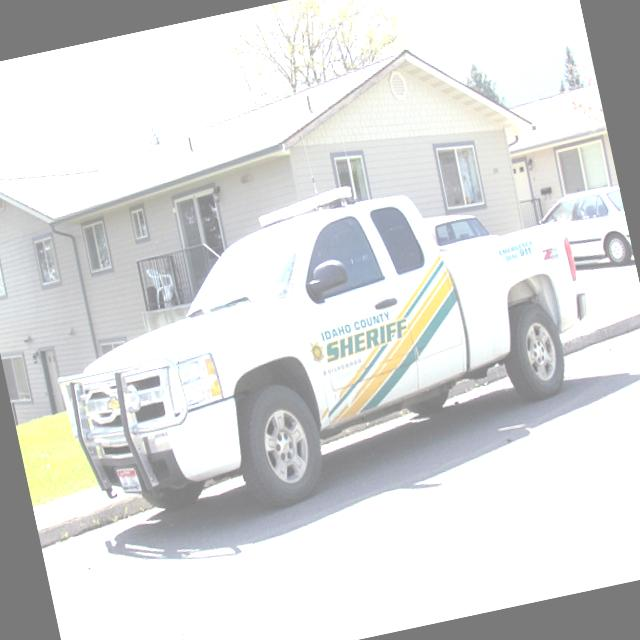Vehicle: (28, 138, 612, 544), (538, 183, 634, 277), (420, 202, 504, 260)
